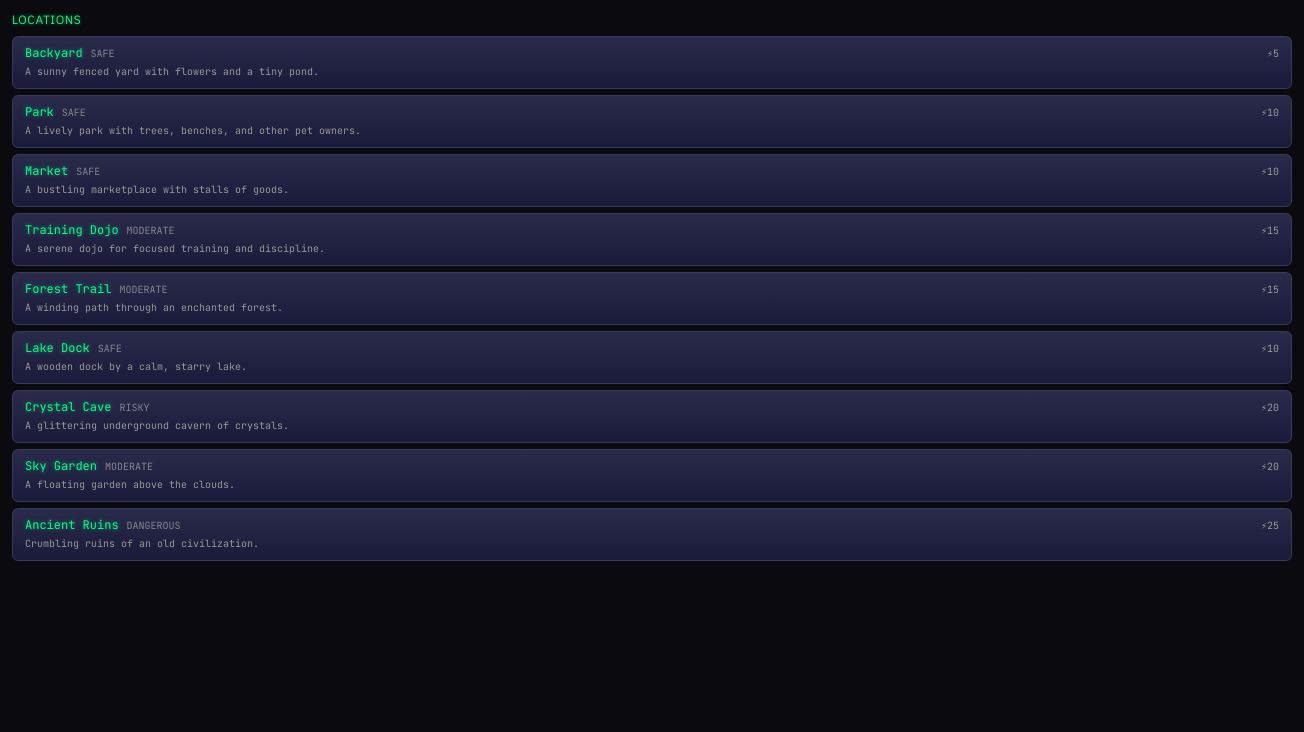
Scenario: AdventureScreen › applies the adventure result to the store and shows it
Step 1. Click the button "Backyard" → point(54, 53), box [12,36,1292,89]
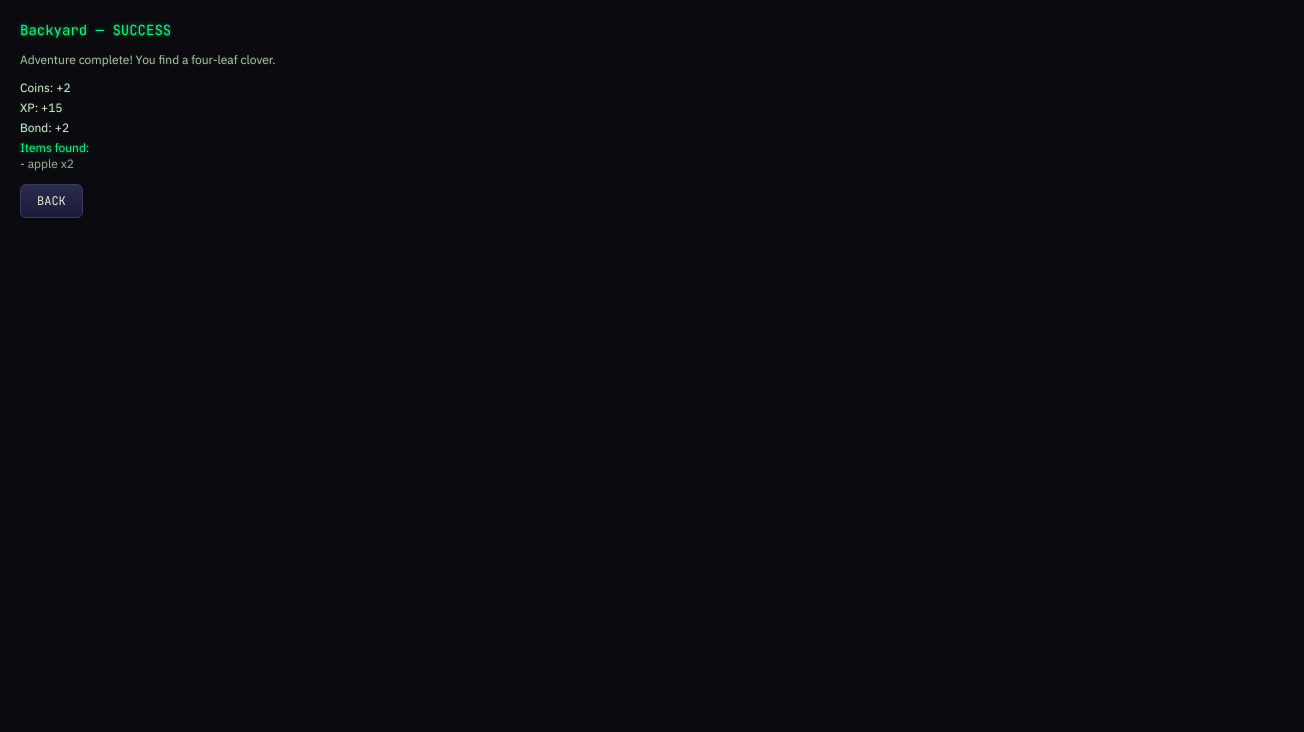
Expected: the text "Backyard — SUCCESS" is shown, [20,21,171,39]
